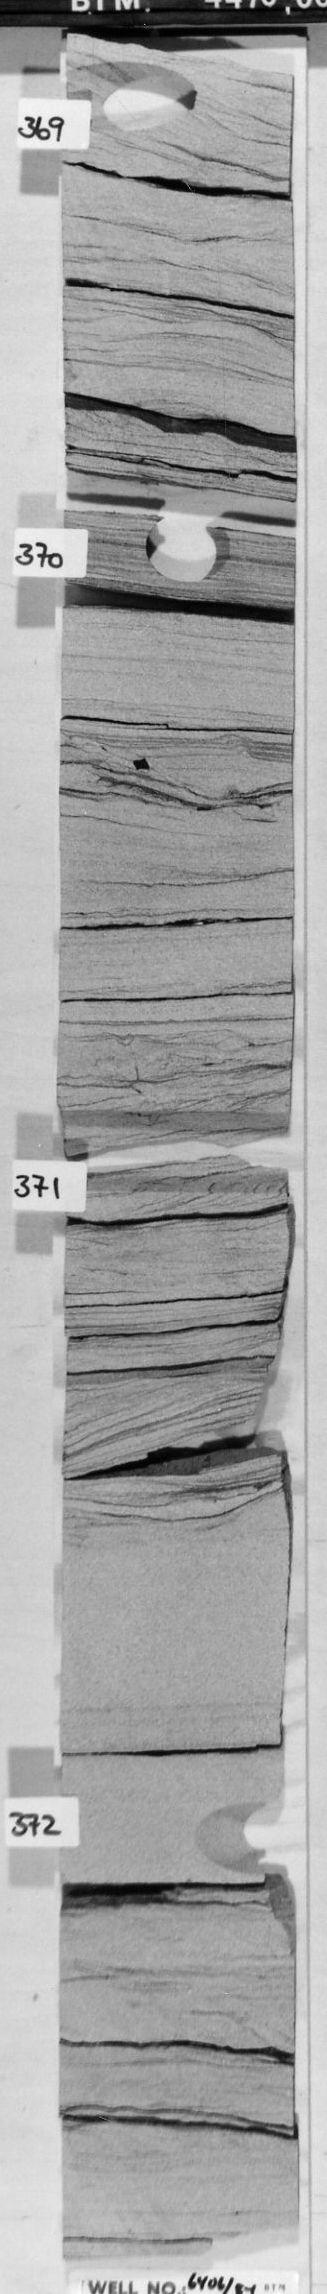hplug: (60, 1102, 286, 1206), (91, 61, 204, 139), (134, 514, 236, 587), (190, 1795, 279, 1879)
